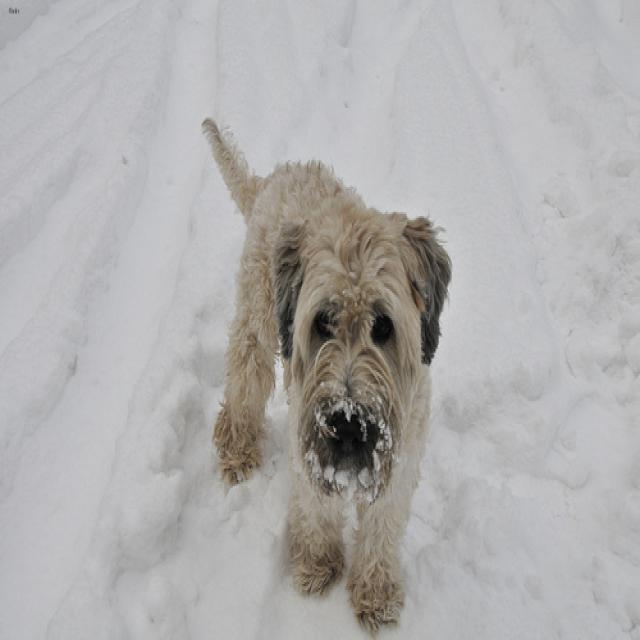dog-wheaten_terrier: (196, 112, 454, 634)
